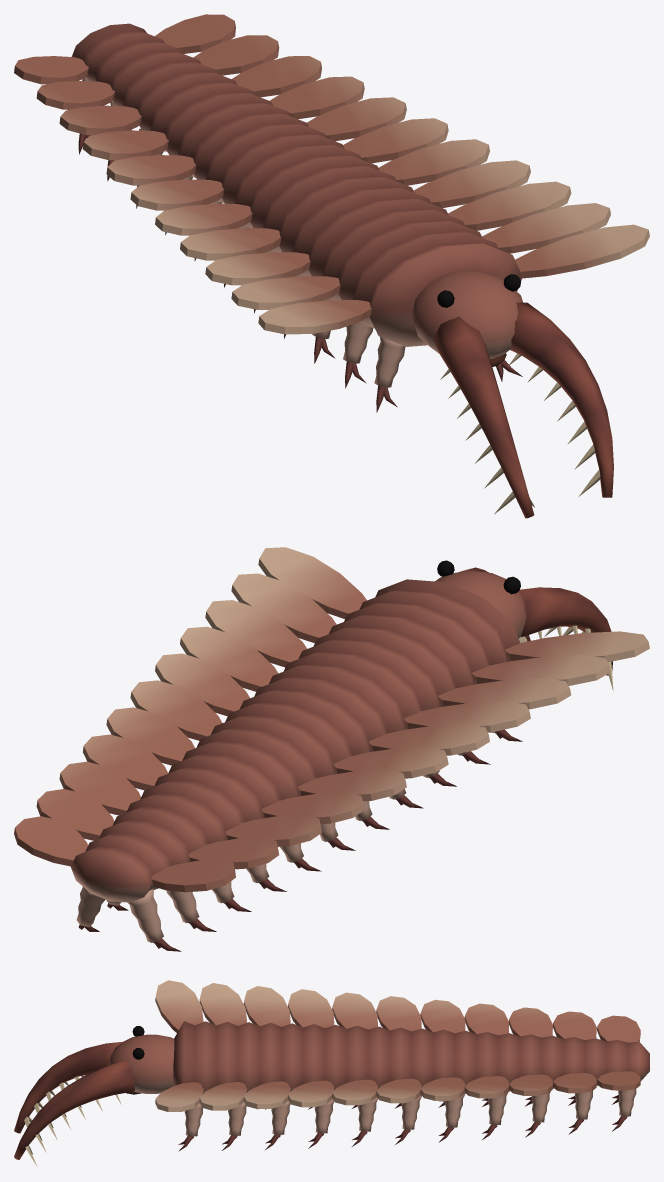
File: Pambdelurion.fbx
The picture shows the model from 3 angles, top to bottom: view 1: azimuth 30°, elevation 25°; view 2: azimuth 150°, elevation 25°; view 3: azimuth 270°, elevation 25°; orthographic projection. The views are drawn at different scales.
Visible parts, largest first — view 1: Pambdelurion; view 2: Pambdelurion; view 3: Pambdelurion.
Boxes of the visible parts, <box> form: Pambdelurion: <box>14,14,649,518</box>; Pambdelurion: <box>14,547,649,951</box>; Pambdelurion: <box>14,980,649,1166</box>.
Bounding box in the file's own units: 0.6966 × 0.3014 × 1.47.
